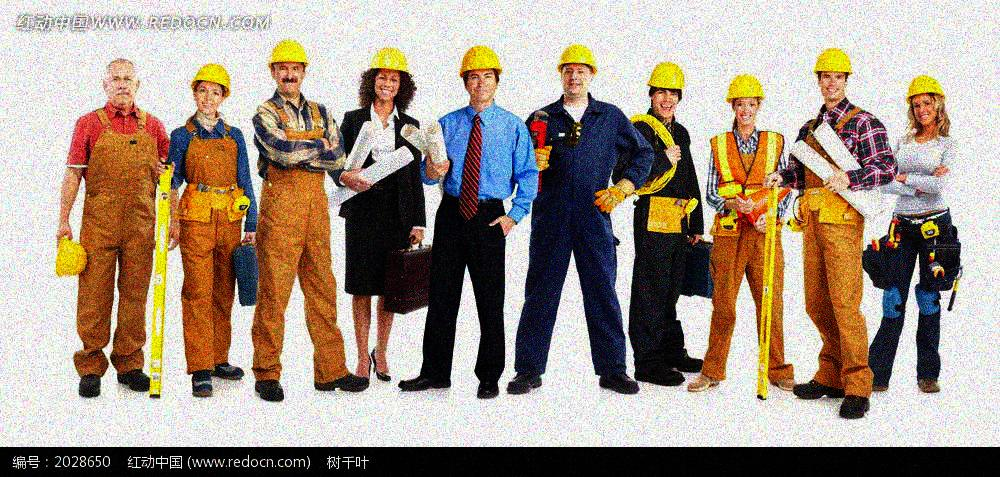helmet: (458, 44, 505, 103), (366, 46, 412, 100), (554, 43, 600, 96), (725, 73, 769, 126), (647, 63, 688, 119), (812, 47, 854, 101), (905, 75, 948, 127), (268, 38, 310, 91), (191, 65, 238, 112)
